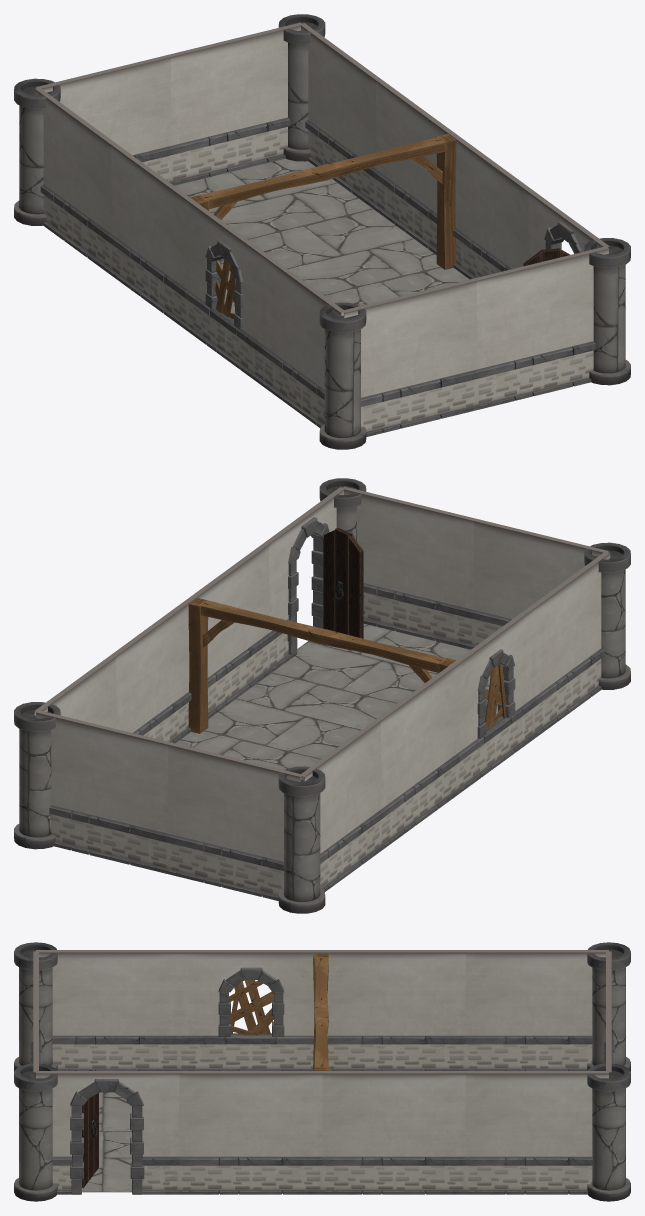
Rendered from SM_longRoom.fbx.
3 views of the same model, one above another, from view 1: azimuth 30°, elevation 25°; view 2: azimuth 150°, elevation 25°; view 3: azimuth 270°, elevation 25° (orthographic). The views are drawn at different scales.
Parts seen in each view (by area): view 1: SM_wall67, SM_wall47, SM_wall66, SM_wall50, SM_wallWindow13, SM_floor56, SM_wall46, SM_wall48, SM_wall52, SM_wall49, SM_wall53, SM_wall51 (+8 smaller); view 2: SM_wall47, SM_wall48, SM_wall67, SM_wall50, SM_wallWindow13, SM_floor52, SM_wall49, SM_wall66, SM_wall46, SM_wall51, SM_wall53, SM_floor54 (+9 smaller); view 3: SM_wall53, SM_wall51, SM_wall50, SM_wallWindow13, SM_wall52, SM_wall49, SM_wall46, SM_wallDoor3, SM_pillarHuge49, SM_pillarHuge47, SM_pillarHuge48, SM_pillarHuge46 (+6 smaller).
Boxes of the visible parts, x1,y1,x2,y2 form: SM_wall67: [474, 246, 608, 409]; SM_wall47: [168, 22, 301, 185]; SM_wall66: [341, 278, 478, 436]; SM_wall50: [108, 143, 192, 328]; SM_wallWindow13: [185, 199, 268, 384]; SM_floor56: [248, 209, 440, 295]; SM_wall46: [34, 88, 115, 273]; SM_wall48: [36, 55, 172, 184]; SM_wall52: [300, 23, 380, 208]; SM_wall49: [261, 255, 344, 427]; SM_wall53: [452, 135, 533, 279]; SM_wall51: [373, 79, 456, 254]; SM_wall47: [36, 710, 170, 873]; SM_wall48: [166, 742, 303, 900]; SM_wall67: [342, 486, 476, 649]; SM_wall50: [376, 663, 459, 848]; SM_wallWindow13: [452, 607, 536, 792]; SM_floor52: [204, 673, 396, 759]; SM_wall49: [529, 551, 610, 737]; SM_wall66: [472, 519, 608, 648]; SM_wall46: [300, 719, 383, 891]; SM_wall51: [111, 599, 192, 743]; SM_wall53: [188, 543, 271, 718]; SM_floor54: [272, 624, 470, 703]; SM_wall53: [179, 1071, 322, 1194]; SM_wall51: [322, 1071, 465, 1194]; SM_wall50: [322, 950, 465, 1070]; SM_wallWindow13: [179, 950, 322, 1070]; SM_wall52: [465, 1071, 608, 1194]; SM_wall49: [36, 950, 179, 1070]; SM_wall46: [465, 950, 608, 1070]; SM_wallDoor3: [36, 1071, 179, 1194]; SM_pillarHuge49: [587, 1063, 630, 1201]; SM_pillarHuge47: [14, 1063, 57, 1201]; SM_pillarHuge48: [587, 942, 630, 1071]; SM_pillarHuge46: [14, 942, 57, 1071].
Size of the model in its own units: 13.95 by 5.59 by 26.04.
